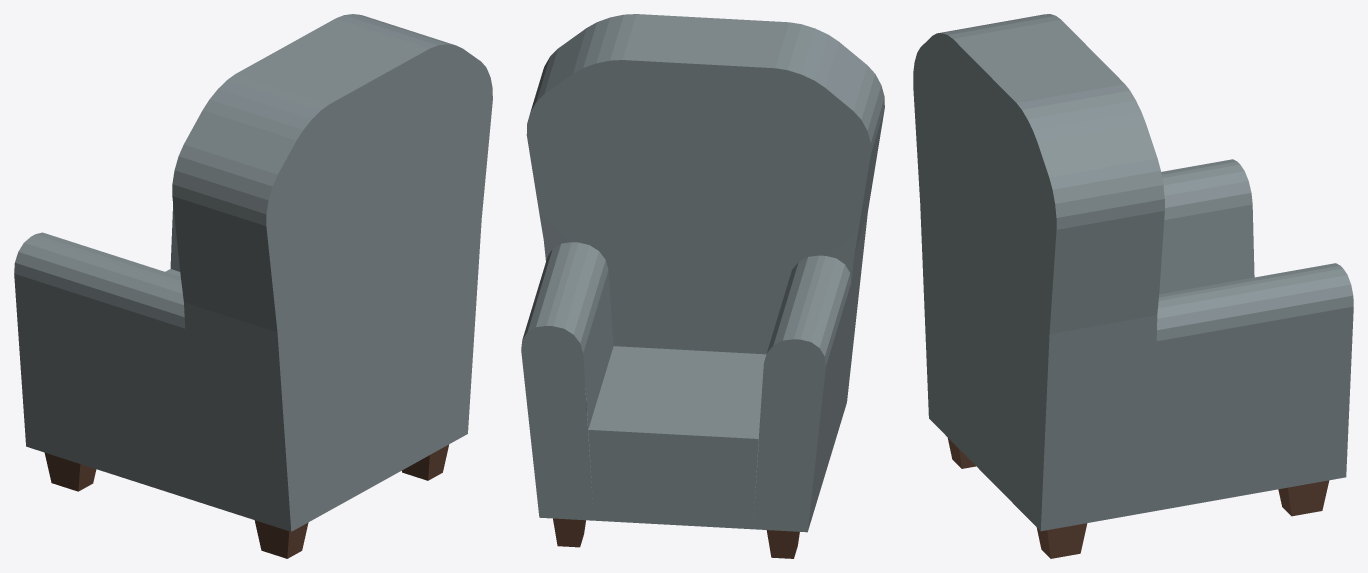
The model's file is Armchair_01.fbx.
The picture shows the model from 3 angles, left to right: view 1: azimuth 30°, elevation 25°; view 2: azimuth 150°, elevation 25°; view 3: azimuth 270°, elevation 25°; orthographic projection. The views are drawn at different scales.
Visible parts, largest first — view 1: Armchair; view 2: Armchair; view 3: Armchair.
Part boxes in pixels (x1,y1,x2,y2): Armchair: (14, 14, 492, 558); Armchair: (521, 14, 884, 558); Armchair: (913, 14, 1353, 558).
Bounding box in the file's own units: 2124 × 2293 × 2076.
